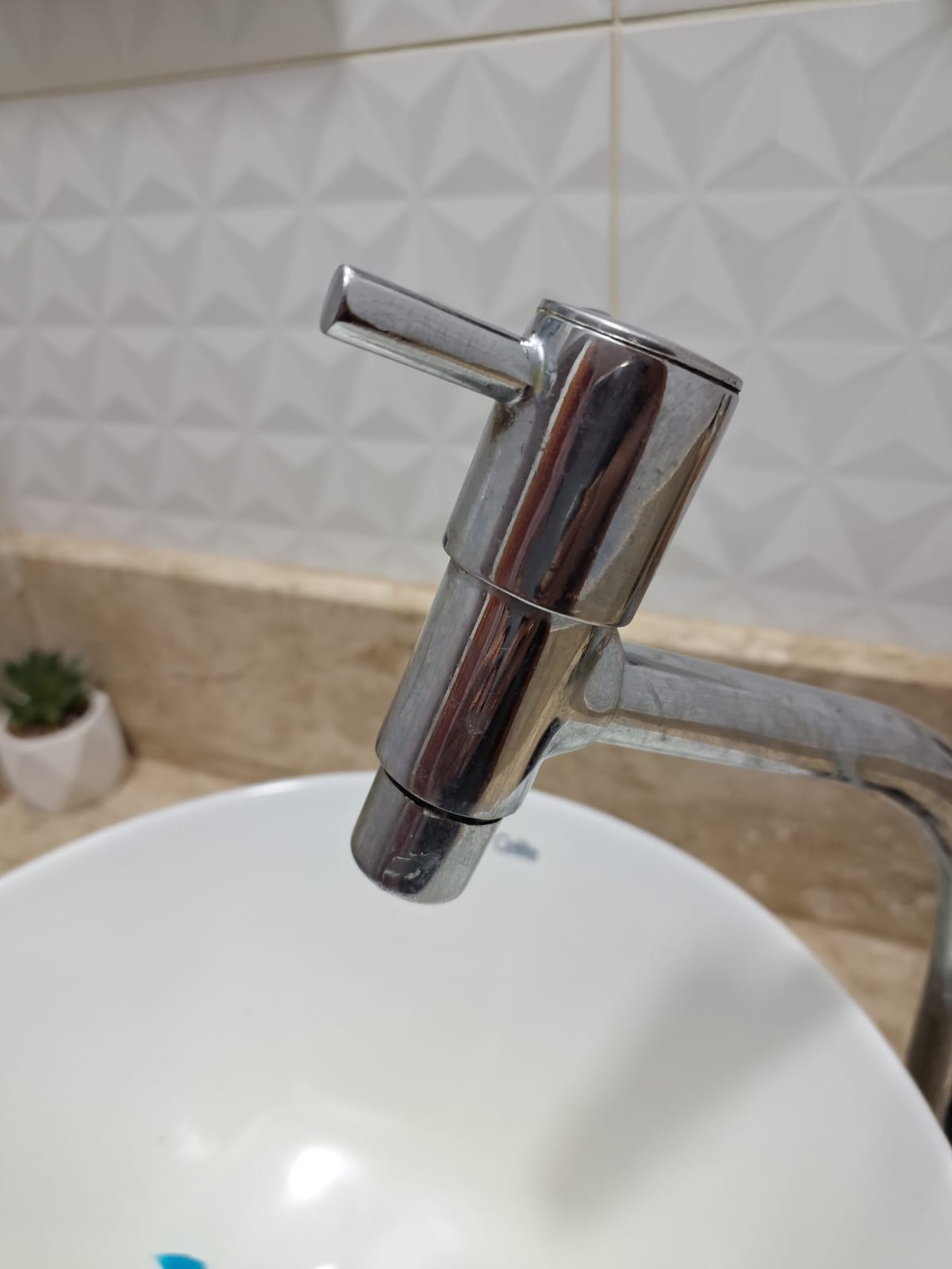torneira_fechada: (276, 189, 773, 1173)
